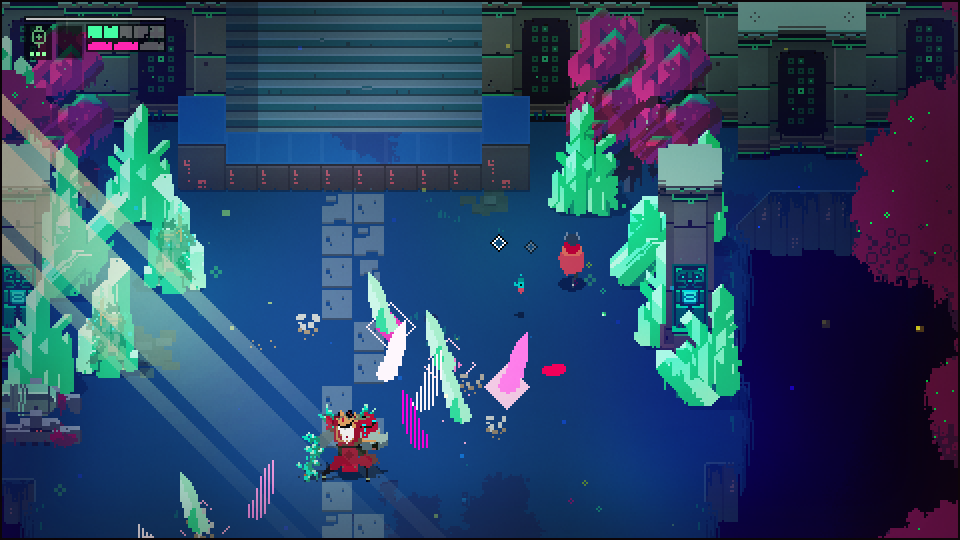hanged_crys: (365, 269, 402, 330), (438, 358, 472, 424), (245, 457, 278, 519), (176, 471, 210, 531), (501, 327, 528, 396), (421, 308, 453, 356), (402, 390, 426, 450)
hanged_man: (297, 402, 387, 481)
player: (555, 231, 588, 291)
